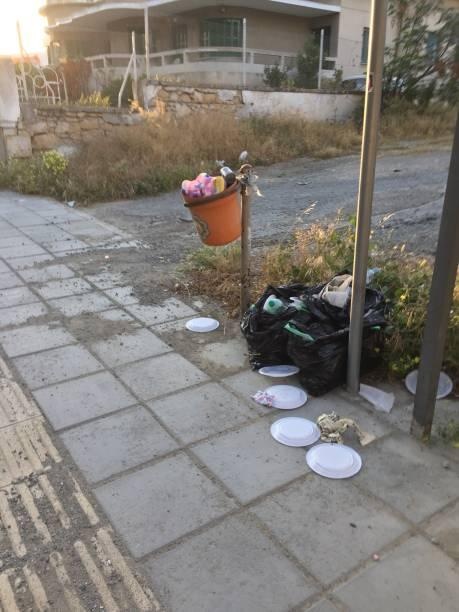trash: (280, 253, 348, 395), (305, 254, 402, 329), (231, 277, 304, 368), (180, 163, 262, 214), (402, 351, 459, 406), (301, 438, 367, 478), (267, 408, 322, 449), (320, 411, 367, 447), (346, 382, 399, 412), (253, 356, 308, 382), (263, 381, 312, 408), (180, 311, 226, 339)
trash_can_overflow: (150, 112, 388, 438)
